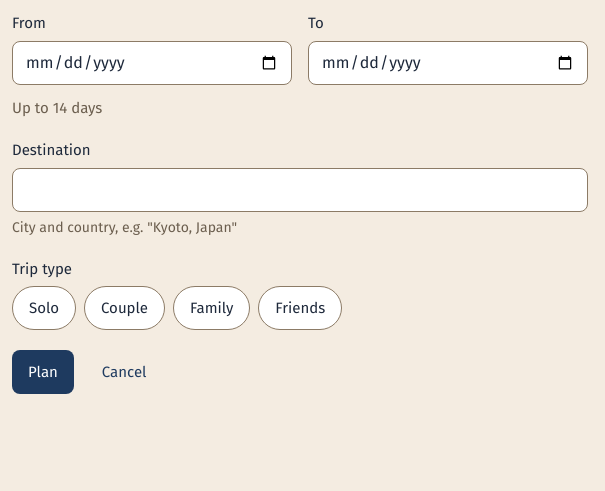
Scenario: TripForm › shows every error on submit and does not submit
Click the button "Plan" at (43, 372), box [12, 350, 74, 394]
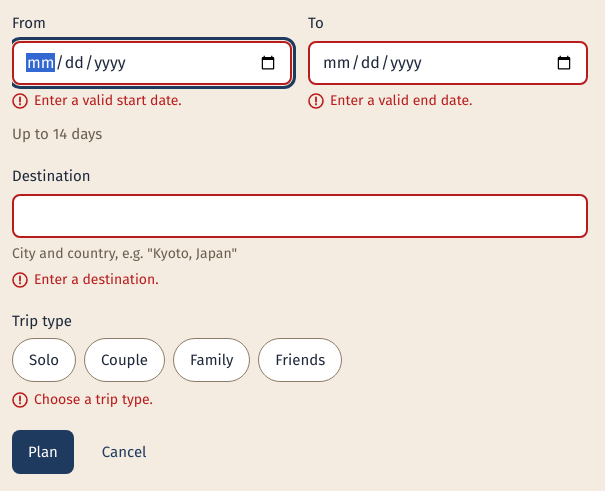
expect the text "Enter a valid start date." is shown: met, box [34, 90, 182, 110]
expect the text "Enter a valid end date." is shown: met, box [330, 90, 472, 110]
expect the text "Enter a destination." is shown: met, box [34, 270, 159, 290]
